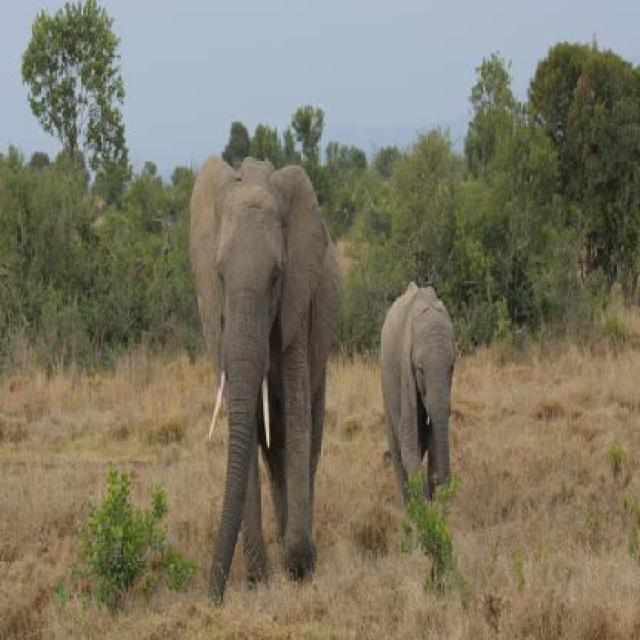Elephant: (186, 146, 348, 608), (377, 270, 468, 527)
